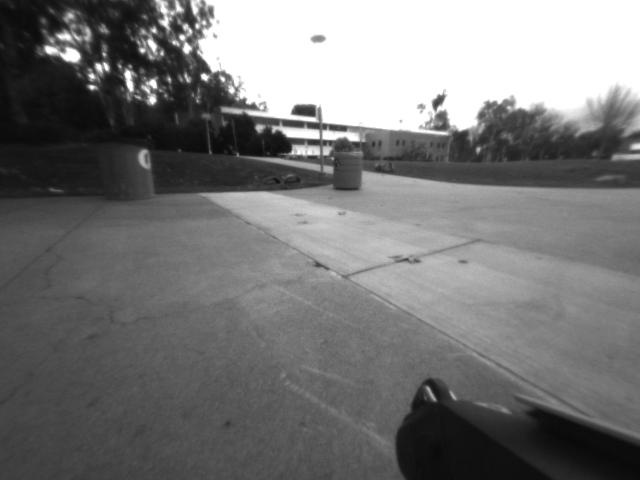trashcan: (94, 138, 162, 203), (326, 151, 364, 191)
